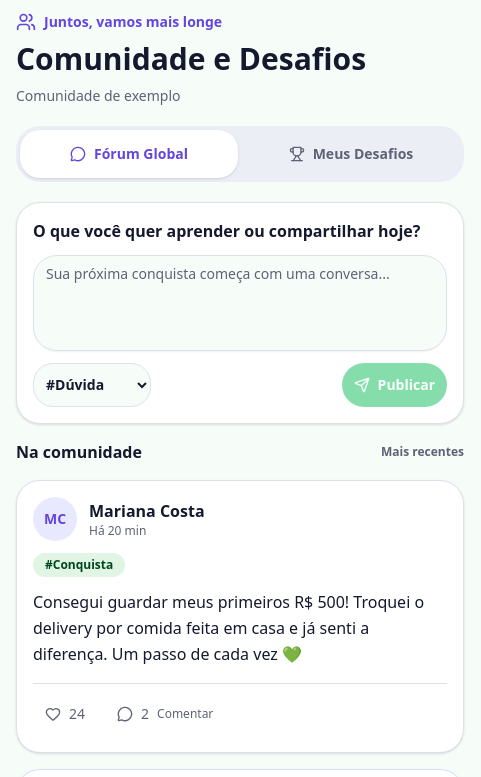
Test: Community and challenges › publishes a post and toggles its like
Expected: the button "Publicar" is disabled, [342,362,447,406]
Type "Minha primeira economia!" into the text box labelled "O que você quer aprender ou compartilhar hoje?". click: (240, 302)
box: [33,254,447,350]
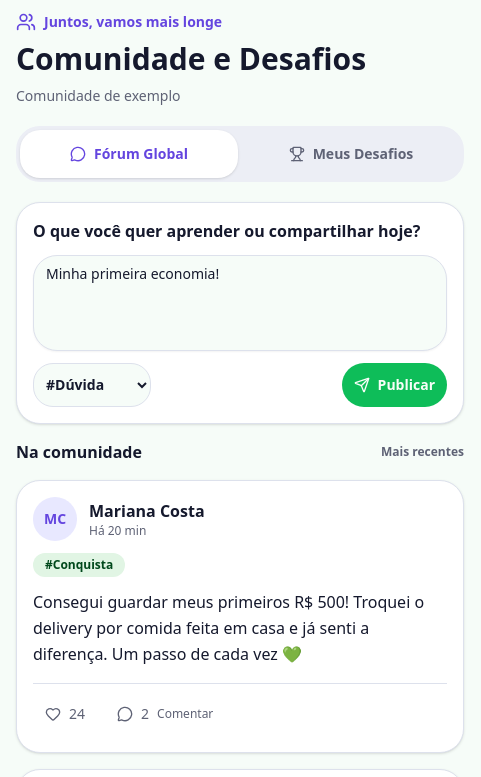
Click the button "Publicar". click: (394, 384)
box: [342,362,447,406]
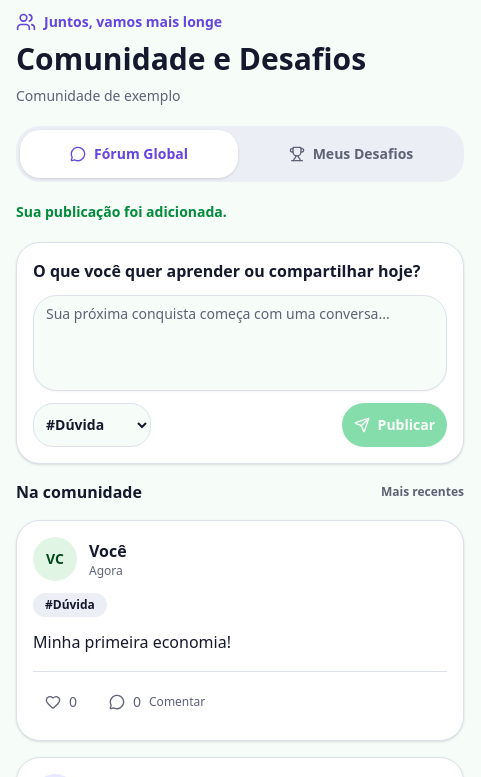
Expected: the text "Minha primeira economia!" is shown, [33,630,231,652]
Click the button named "Curtir publicação de Você". click: (61, 702)
box: [33,680,89,724]
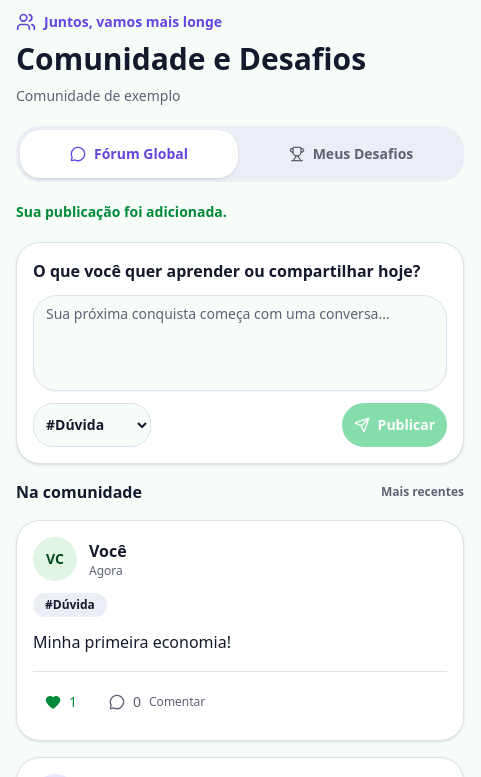
Expected: the button named "Curtir publicação de Você" reads "1"
Click the button named "Curtir publicação de Você". click: (61, 702)
box: [33,680,89,724]
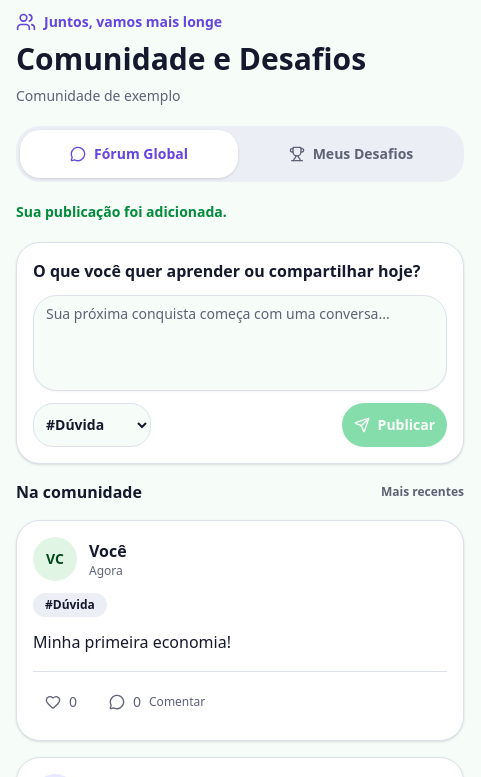
Expected: the text box labelled "O que você quer aprender ou compartilhar hoje?" is empty, [33,294,447,390]
Expected: the button named "Curtir publicação de Você" reads "0", [33,680,89,724]
